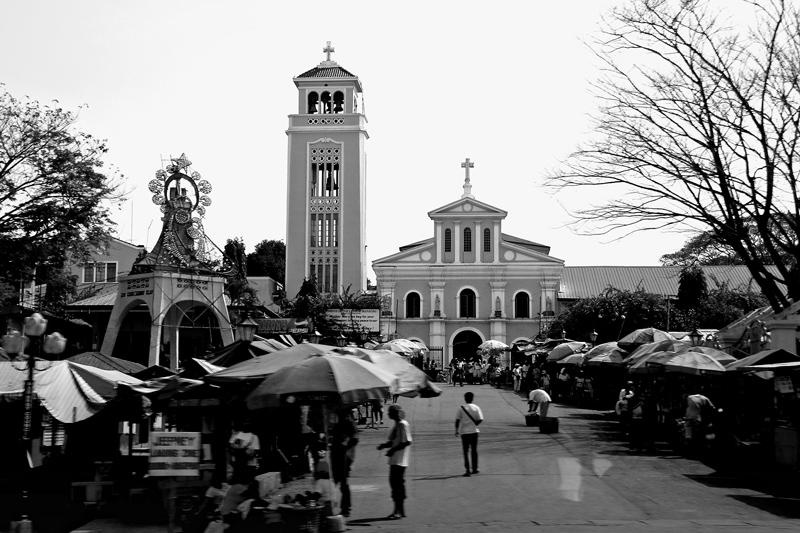manaoag_church_manaoag_pangasinan: (278, 37, 564, 376)
